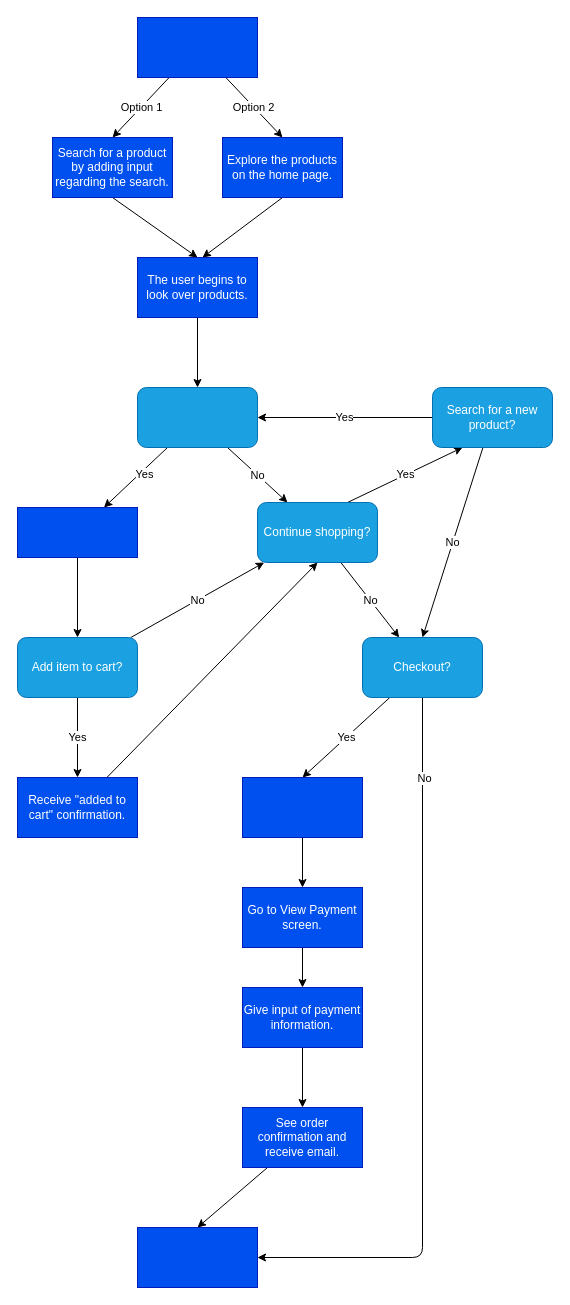
Image size: 570x1305. Some labels were removed from this diagram. The centre of each missing label's shape, as x and y in pixels:
"Enter the website." belongs at (197,47).
"Go to View Cart screen." belongs at (302,807).
"Leave the website." belongs at (197,1257).
"The product webpage opens." belongs at (77,532).
"View a specific product?" belongs at (197,417).
